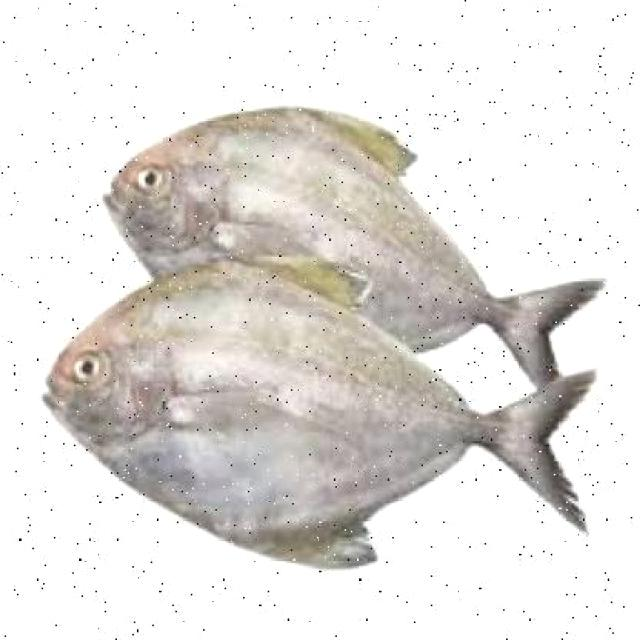ikan-pacu: (44, 261, 590, 557), (106, 96, 552, 352)
